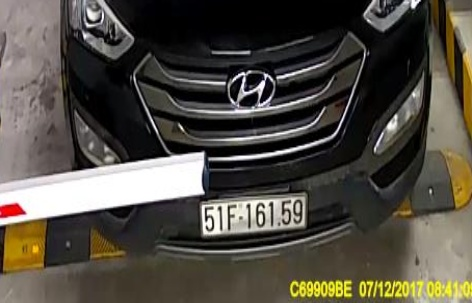plate: (202, 193, 312, 238)
